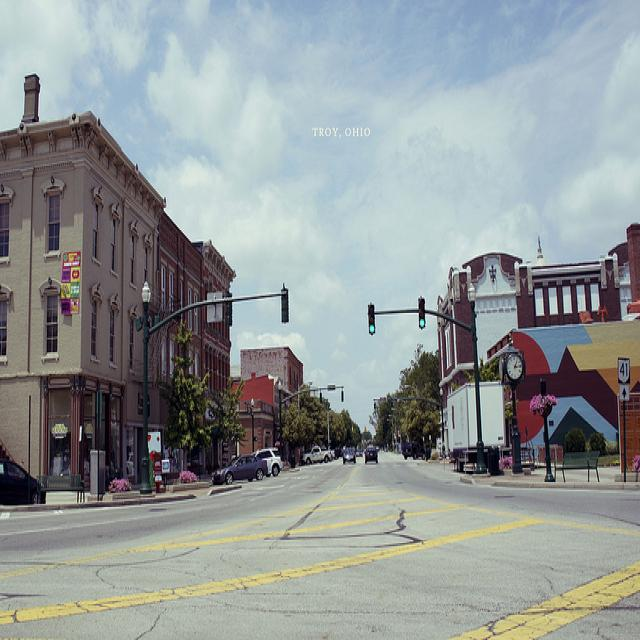Vehicle: (447, 380, 507, 474), (0, 462, 45, 506), (215, 455, 268, 485), (250, 447, 284, 478), (299, 446, 332, 466), (402, 441, 425, 460), (365, 443, 378, 465), (342, 447, 356, 465), (357, 450, 362, 457), (331, 450, 335, 458)
